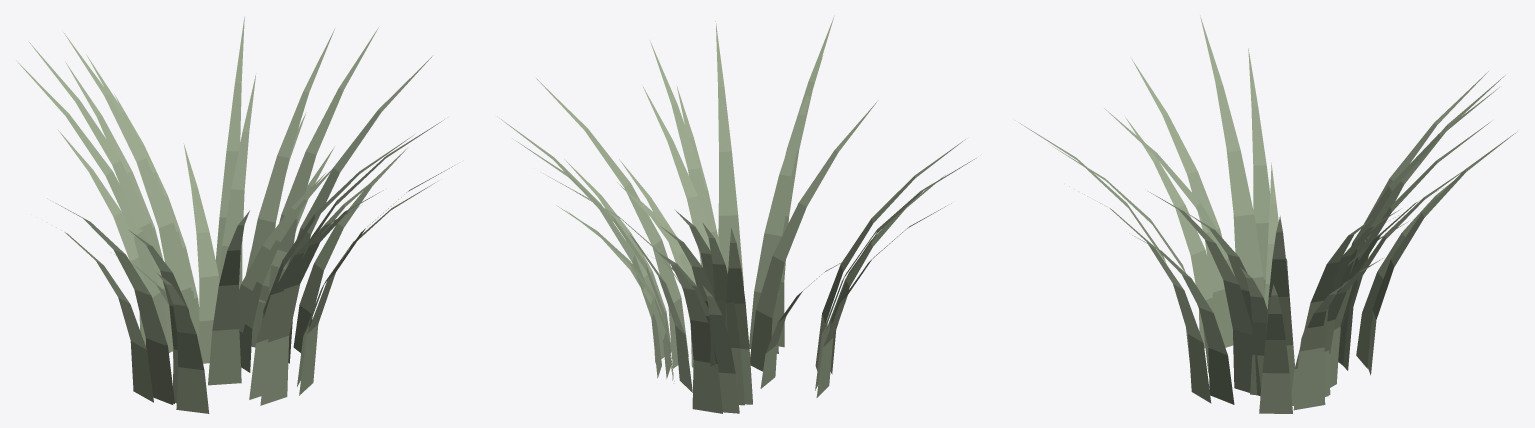
Rendered from alpine-and-arctic-biomes-alpine-sedge-1e528264__20975.glb.
3 renders of one model, left to right at view 1: azimuth 30°, elevation 25°; view 2: azimuth 150°, elevation 25°; view 3: azimuth 270°, elevation 25°, orthographic. The views are drawn at different scales.
Parts seen in each view (by area): view 1: alpine-sedge; view 2: alpine-sedge; view 3: alpine-sedge.
Boxes of the visible parts, left/top/right/bottom form: alpine-sedge: left=16, top=16, right=454, bottom=413; alpine-sedge: left=497, top=15, right=976, bottom=413; alpine-sedge: left=1015, top=15, right=1517, bottom=413.
Bounding box in the file's own units: 0.3644 × 0.2217 × 0.3746.
